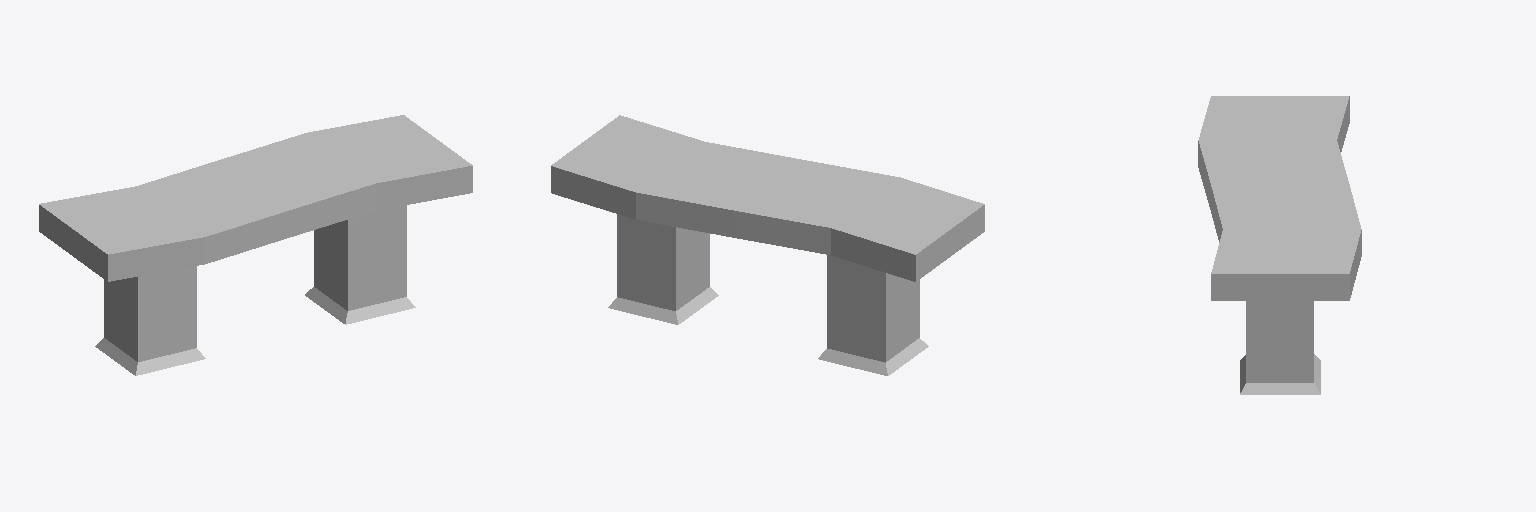
Rendered from bench.obj.
The picture shows the model from 3 angles: view 1: azimuth 30°, elevation 25°; view 2: azimuth 150°, elevation 25°; view 3: azimuth 270°, elevation 25°; orthographic projection.
Visible parts, largest first — view 1: bench; view 2: bench; view 3: bench.
Part boxes in pixels (bbox=[...]): bench: bbox=[39, 115, 472, 375]; bench: bbox=[551, 115, 984, 375]; bench: bbox=[1198, 96, 1361, 394].
Size of the model in its own units: 5.88 by 2.19 by 2.28.